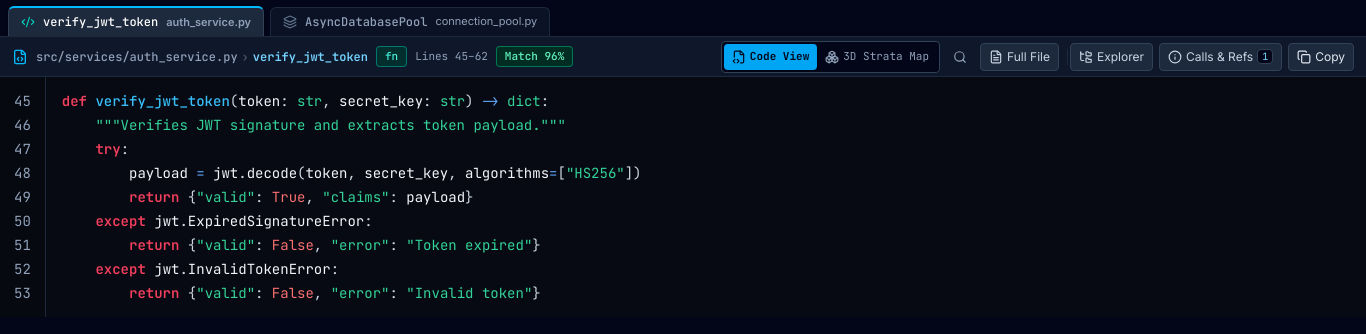
Test case: CodeViewerPane & Syntax Highlighting Suite › highlights matching search terms with <mark> tags inside code display without corrupting Prism tokens
// Click open search
Click the button with test id "open-code-search-btn". click: (960, 56)
box: [946, 42, 974, 70]
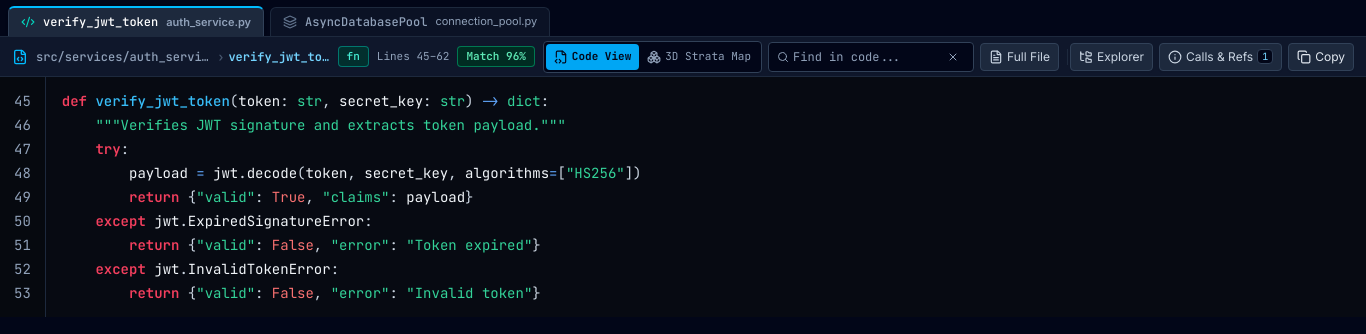
expect the field with test id "code-search-input" is shown: met
// Type "token"
Type "token" into the field with test id "code-search-input". click: (865, 56)
box: [793, 48, 937, 64]
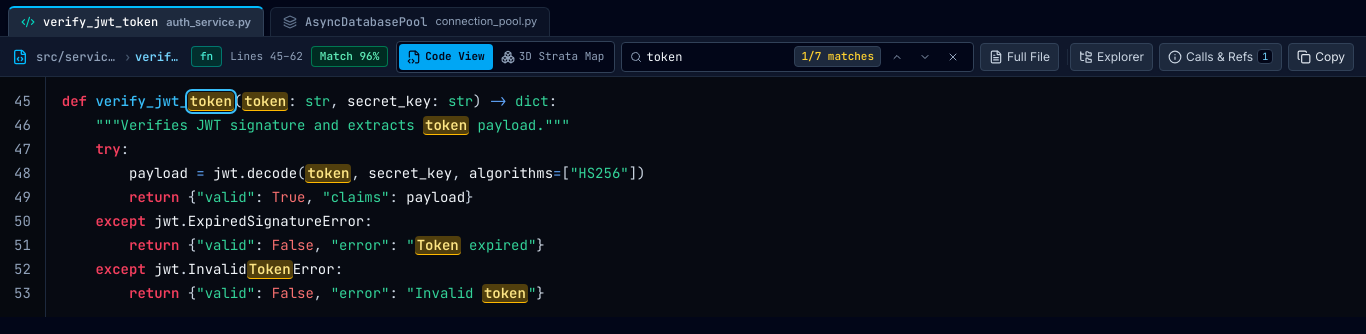
expect the text with test id "search-match-count" shows "7 matches": met, box [802, 49, 874, 63]
